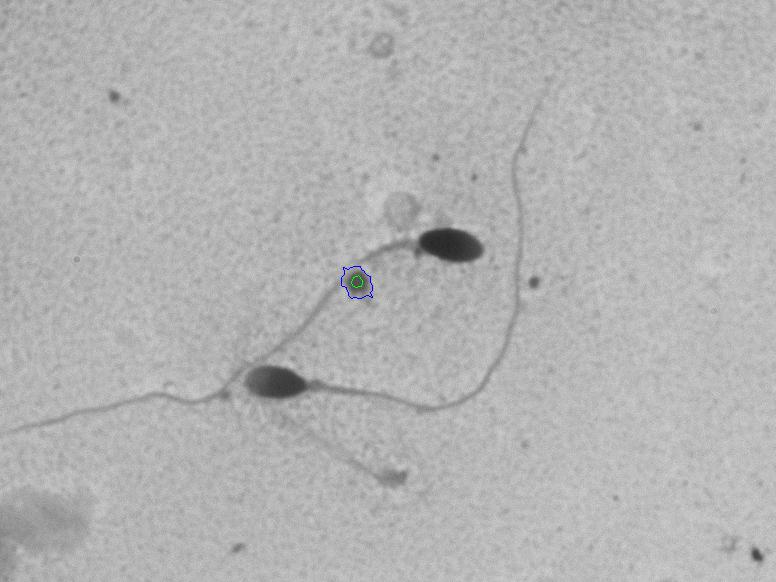Abnormal: (297, 189, 497, 289)
Normal: (231, 59, 595, 429)
